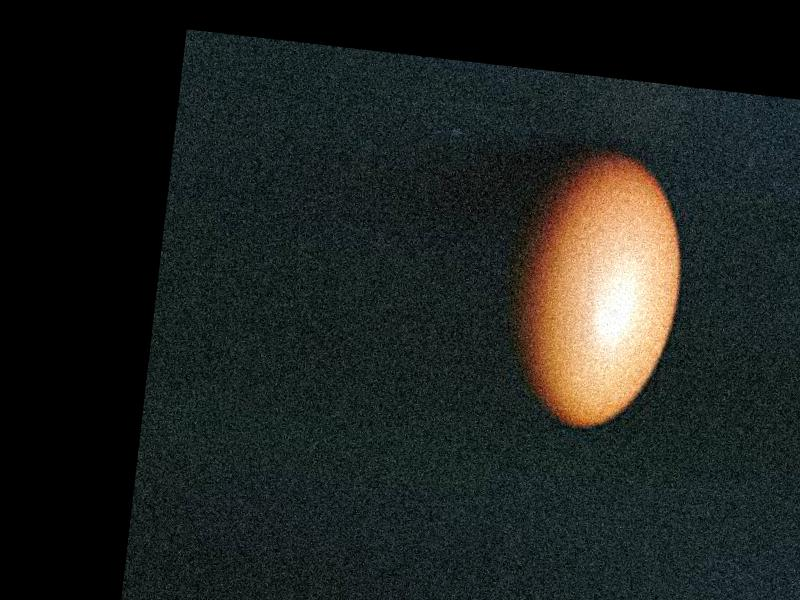Eggs: (500, 140, 691, 435)
